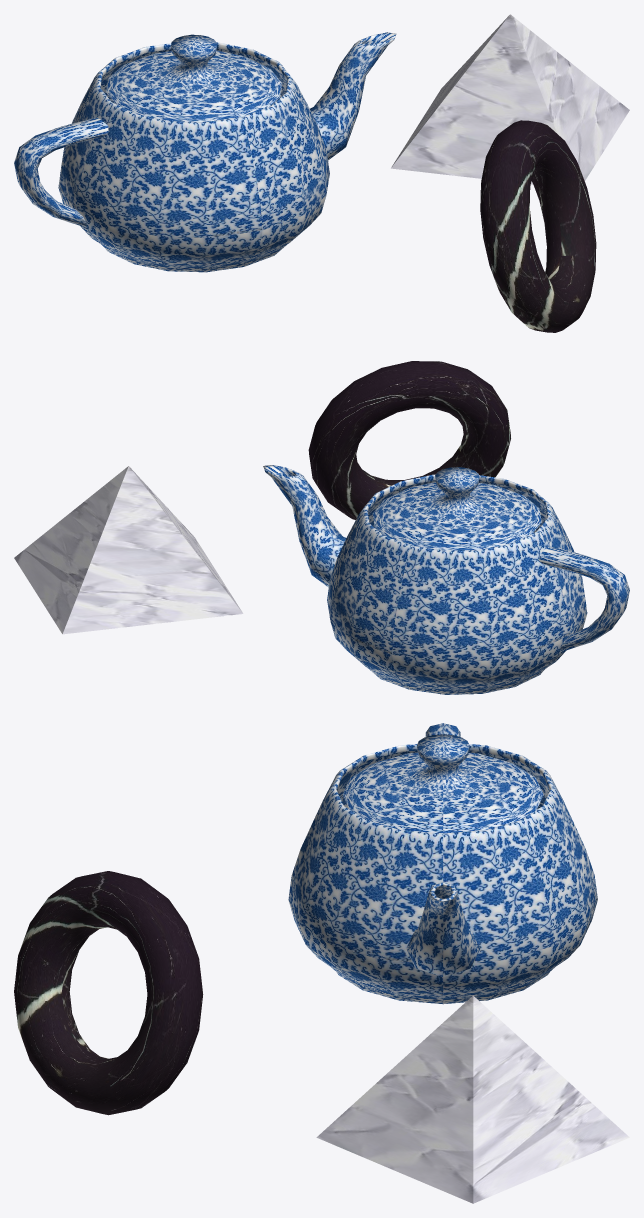
The model's file is asd.obj.
The picture shows the model from 3 angles, top to bottom: view 1: azimuth 30°, elevation 25°; view 2: azimuth 150°, elevation 25°; view 3: azimuth 270°, elevation 25°; orthographic projection. The views are drawn at different scales.
Parts seen in each view (by area): view 1: teapot:Teapot001 nodo1, nodo1 pPyramid1, pTorus1; view 2: teapot:Teapot001 nodo1, nodo1 pPyramid1, pTorus1; view 3: teapot:Teapot001 nodo1, nodo1 pPyramid1, pTorus1.
Boxes of the visible parts, x1,y1,x2,y2 form: teapot:Teapot001 nodo1: [14, 32, 396, 272]; nodo1 pPyramid1: [391, 14, 629, 184]; pTorus1: [480, 120, 596, 332]; teapot:Teapot001 nodo1: [263, 465, 629, 694]; nodo1 pPyramid1: [14, 466, 243, 634]; pTorus1: [308, 361, 510, 519]; teapot:Teapot001 nodo1: [288, 723, 597, 1004]; nodo1 pPyramid1: [316, 995, 629, 1203]; pTorus1: [14, 871, 203, 1115].
Size of the model in its own units: 10.61 by 3.56 by 7.97.
3 materials, 3 textured.
